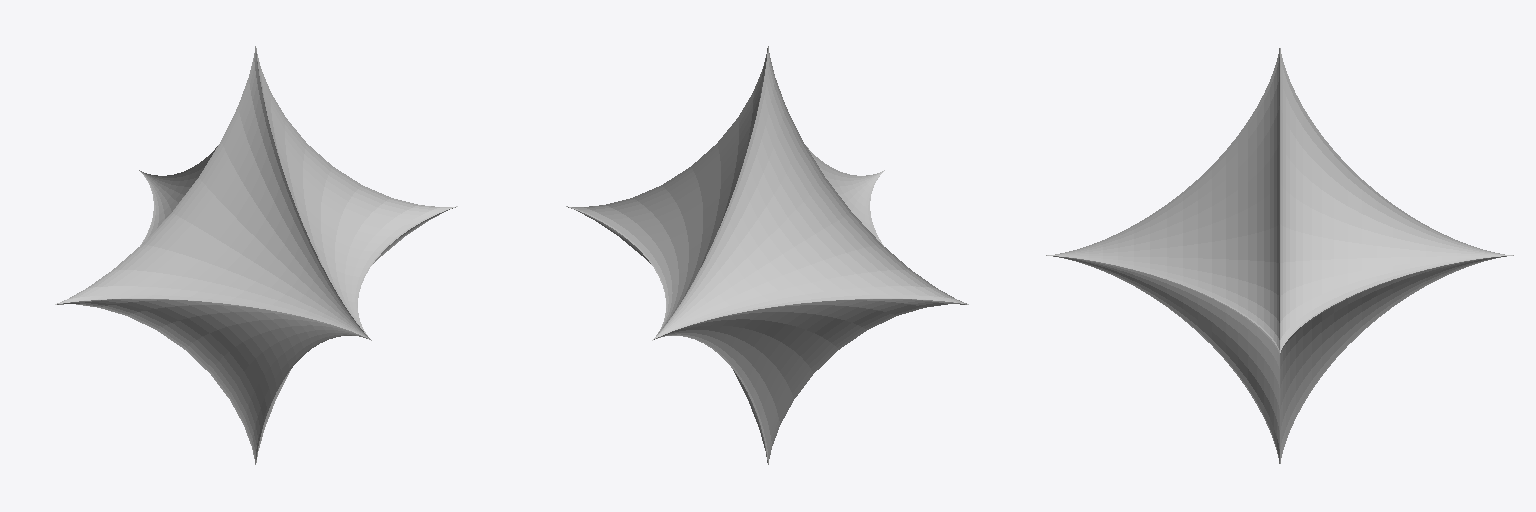
File: hexahedron.obj
3 renders of one model, left to right at view 1: azimuth 30°, elevation 25°; view 2: azimuth 150°, elevation 25°; view 3: azimuth 270°, elevation 25°, orthographic.
Parts seen in each view (by area): view 1: XYZ_Function.003; view 2: XYZ_Function.003; view 3: XYZ_Function.003.
Boxes of the visible parts, x1=… form: XYZ_Function.003: x1=55, y1=46, x2=457, y2=464; XYZ_Function.003: x1=566, y1=46, x2=968, y2=464; XYZ_Function.003: x1=1046, y1=48, x2=1513, y2=463.
Bounding box in the file's own units: 2 × 2 × 1.99.